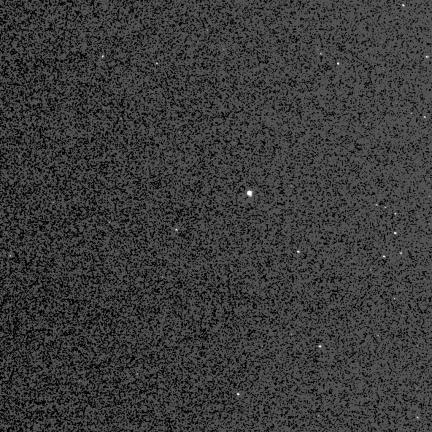blob: (247, 191, 252, 196), (426, 56, 430, 59), (400, 252, 403, 255), (237, 393, 240, 396), (319, 345, 322, 348), (424, 116, 427, 119), (297, 251, 300, 254), (394, 232, 397, 235), (383, 256, 387, 258), (402, 5, 405, 7), (337, 63, 340, 65)
